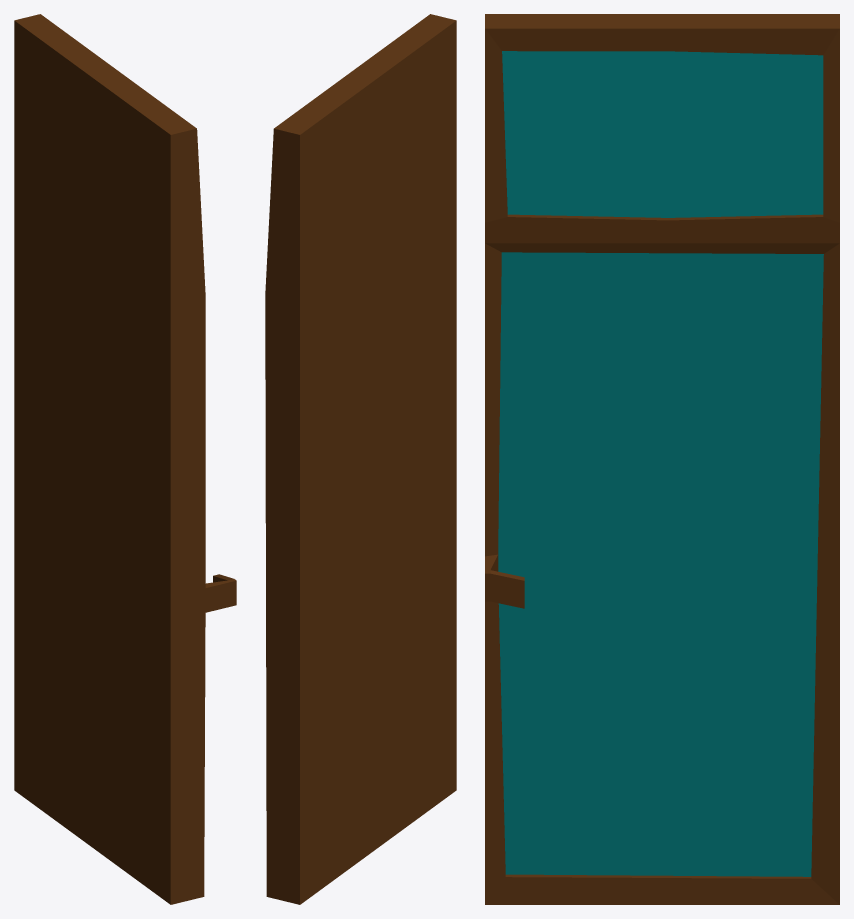
Rendered from ShoeShopDoor.fbx.
3 renders of one model, left to right at view 1: azimuth 30°, elevation 25°; view 2: azimuth 150°, elevation 25°; view 3: azimuth 270°, elevation 25°, orthographic. The views are drawn at different scales.
Parts seen in each view (by area): view 1: Cube.024; view 2: Cube.024; view 3: Cube.024.
Boxes of the visible parts, box(x1,y1,x2,y2) form: Cube.024: box(14, 14, 236, 904); Cube.024: box(265, 14, 456, 904); Cube.024: box(485, 14, 839, 904).
Size of the model in its own units: 24.69 by 102 by 276.
